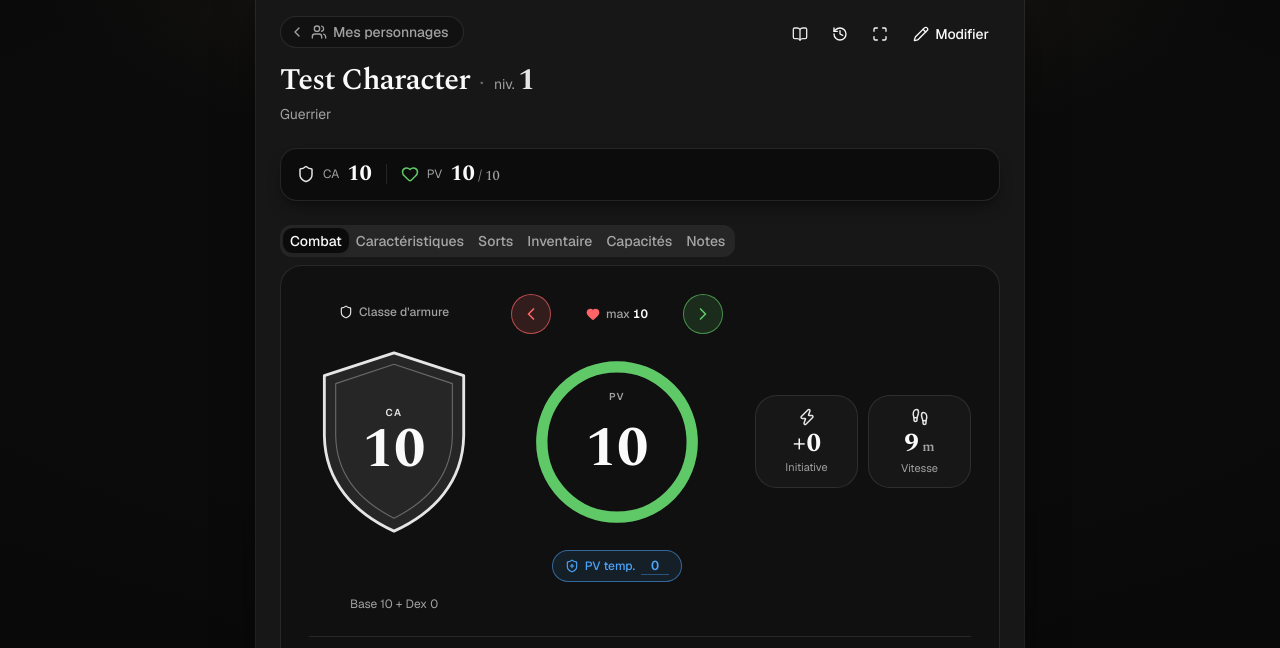
it: Historique du mode jeu › records play actions, merges rapid clicks and shows them in the panel
Expected: the heading "Test Character" is shown, [280,62,470,98]
Click the button named "Infliger 1 dégât" at (531, 314), box [511,294,551,334]
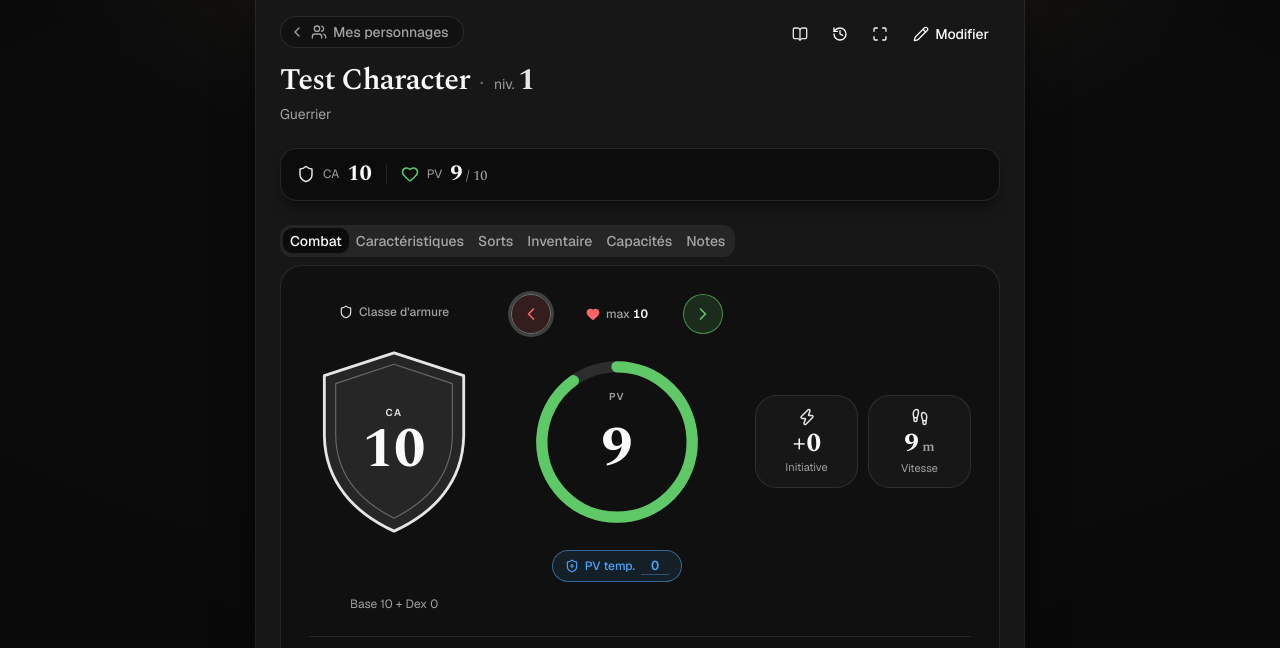
Click the button named "Infliger 1 dégât" at (531, 314), box [511,294,551,334]
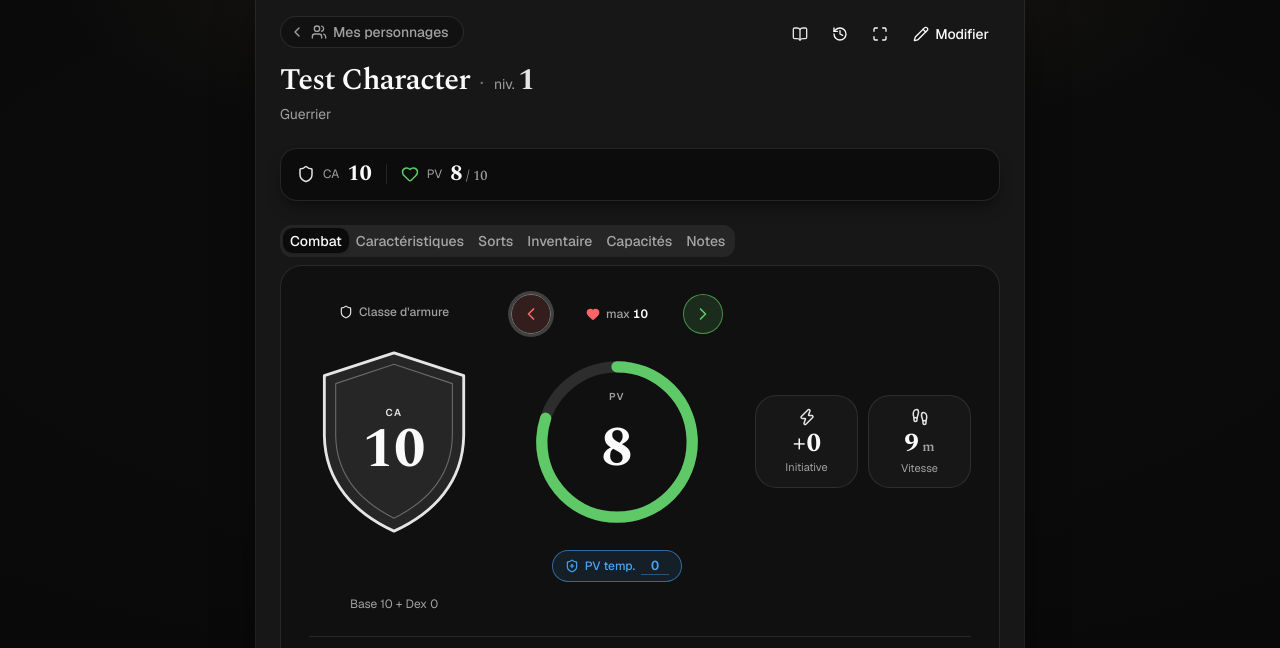
Click the button named "Infliger 1 dégât" at (531, 314), box [511,294,551,334]
(page scrolled)
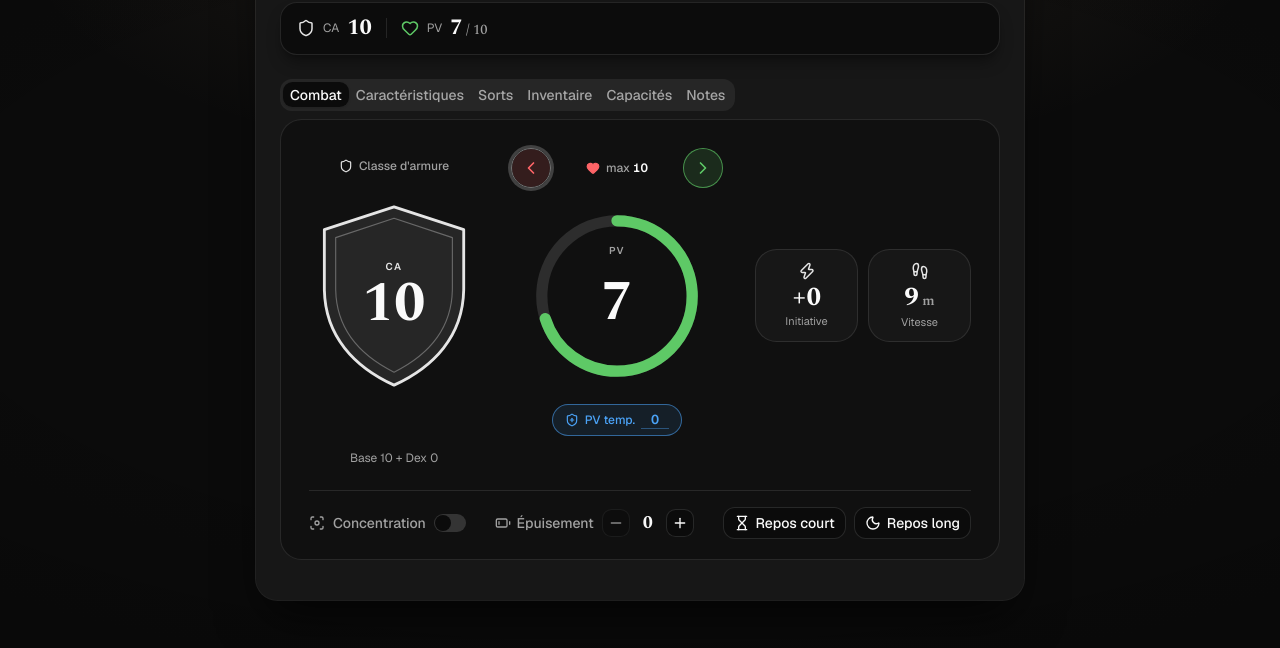
Click the button "Repos long" at (912, 523), box [854,507,971,539]
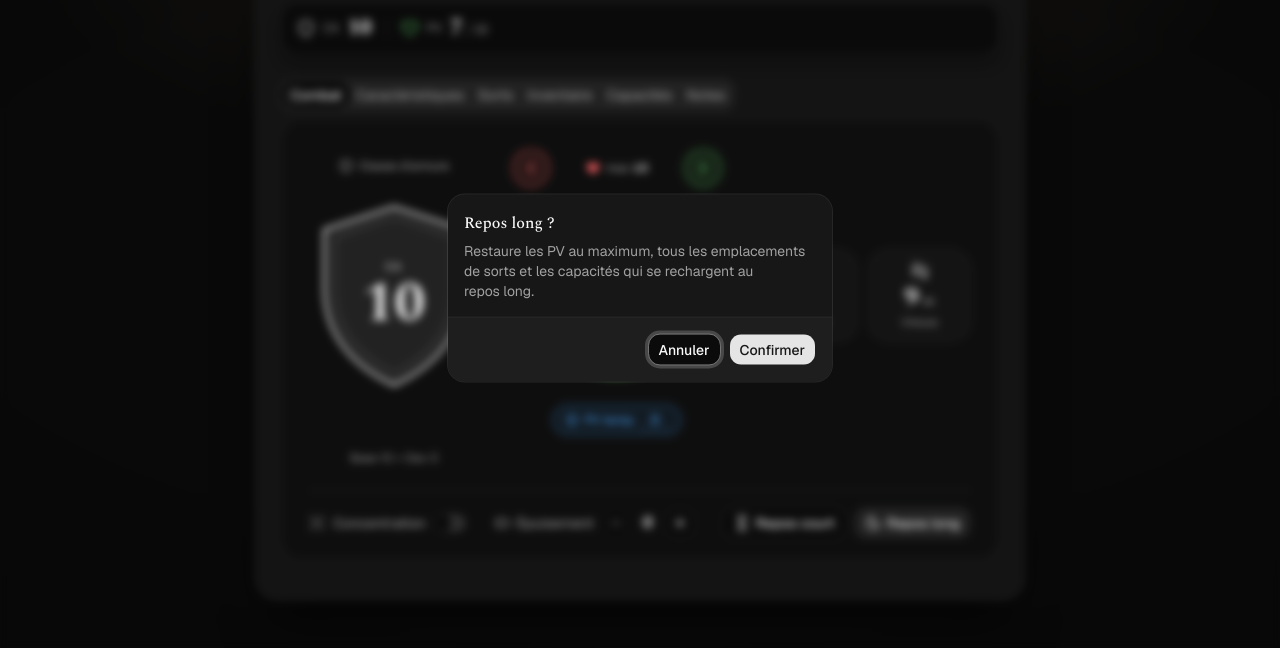
Click the button "Confirmer" at (772, 350), box [729,334,816,366]
(page scrolled)
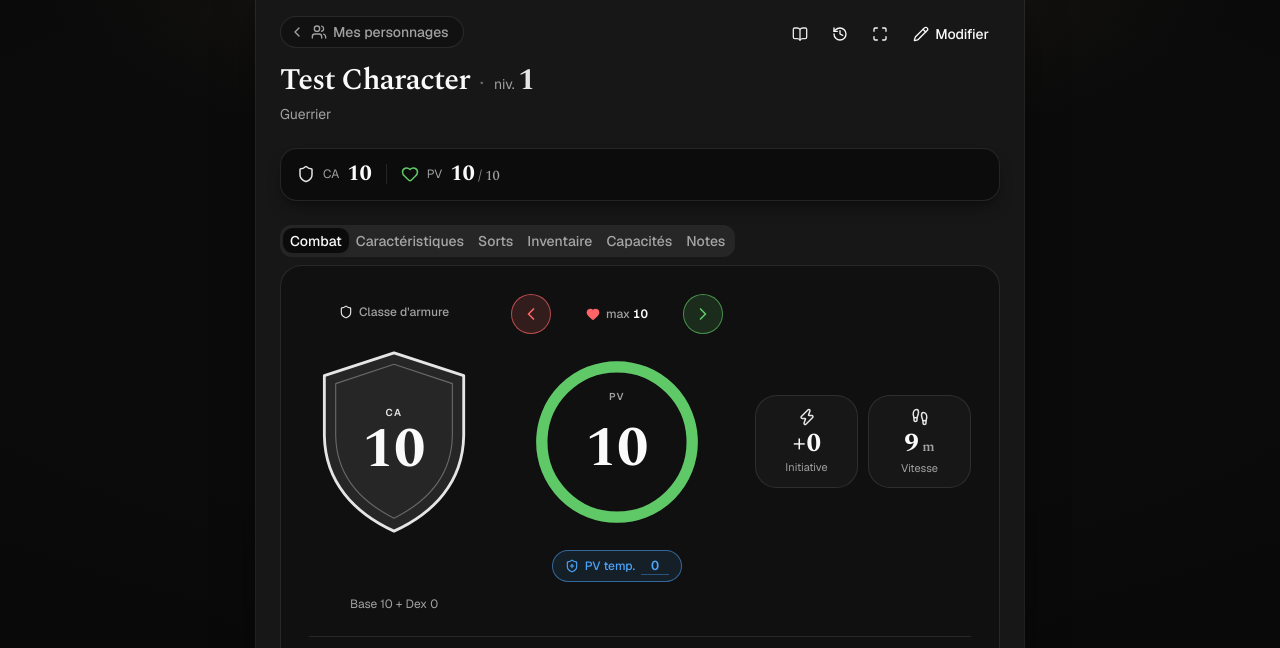
Click the button named "Historique" at (840, 34), box [822,16,858,52]
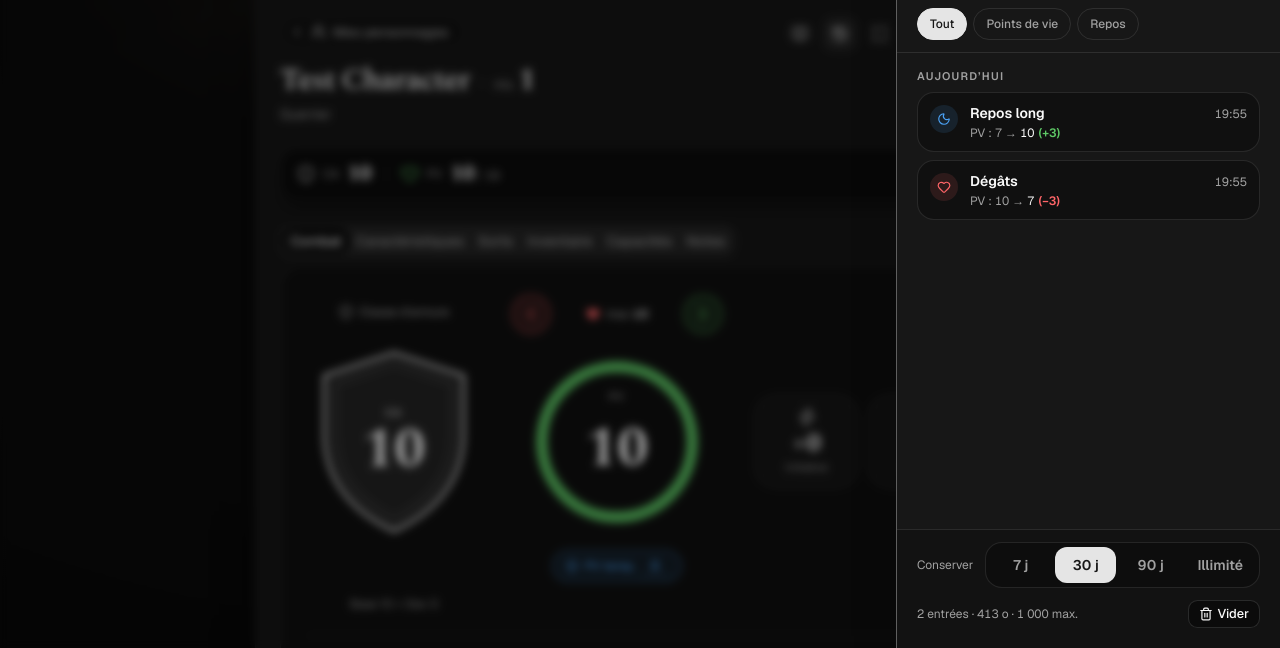
Expected: the text "(−3)" is shown, [1038,193,1060,209]
